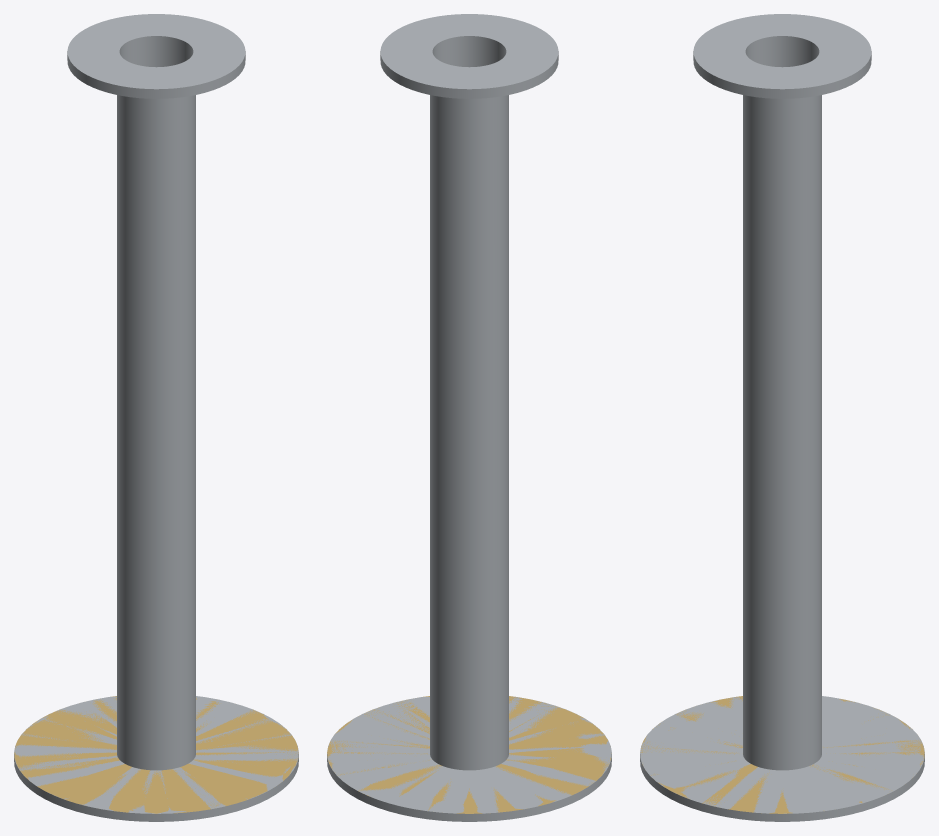
File: step_03.glb
The picture shows the model from 3 angles, left to right: view 1: azimuth 30°, elevation 25°; view 2: azimuth 150°, elevation 25°; view 3: azimuth 270°, elevation 25°; orthographic projection.
Parts seen in each view (by area): view 1: part__tail tube, added__tail tube; view 2: part__tail tube, added__tail tube; view 3: part__tail tube, added__tail tube.
Boxes of the visible parts, box(x1,y1,x2,y2) form: part__tail tube: box(14, 14, 298, 821); added__tail tube: box(14, 696, 298, 813); part__tail tube: box(327, 14, 611, 821); added__tail tube: box(327, 696, 611, 813); part__tail tube: box(640, 14, 924, 821); added__tail tube: box(640, 696, 924, 813).
Size of the model in its own units: 320 by 880 by 320.
